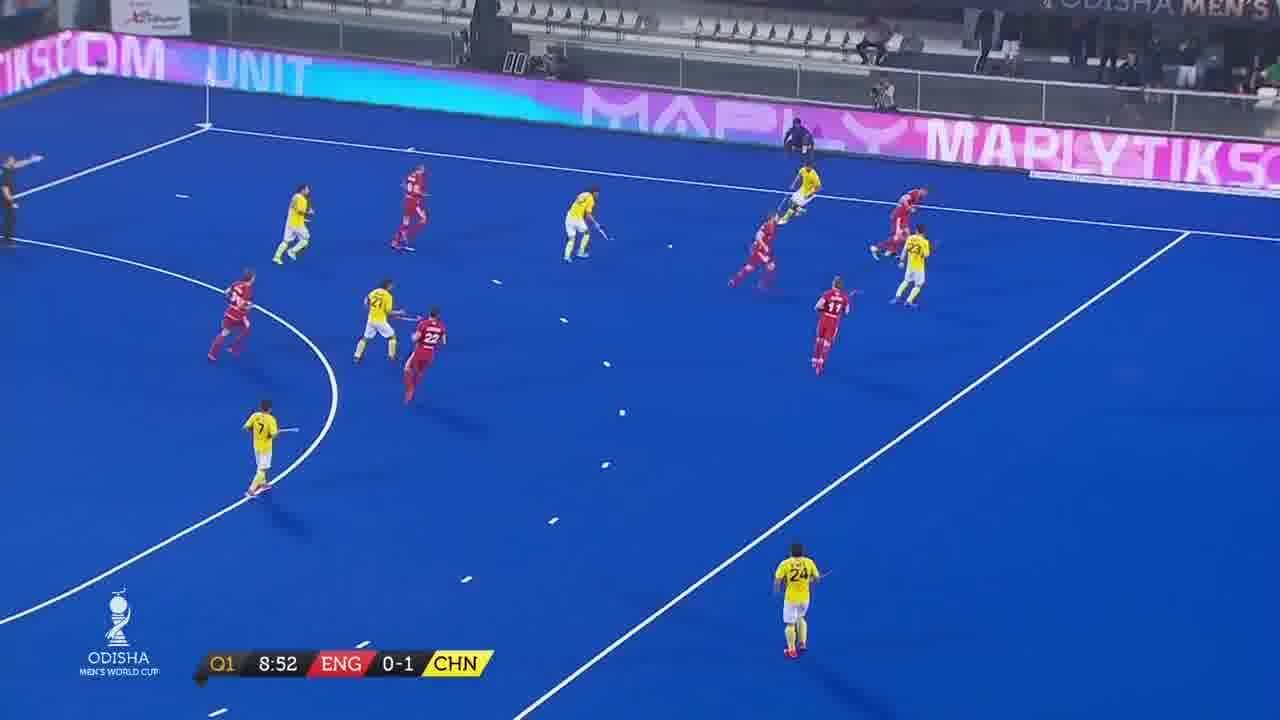ball: (666, 240, 676, 252)
